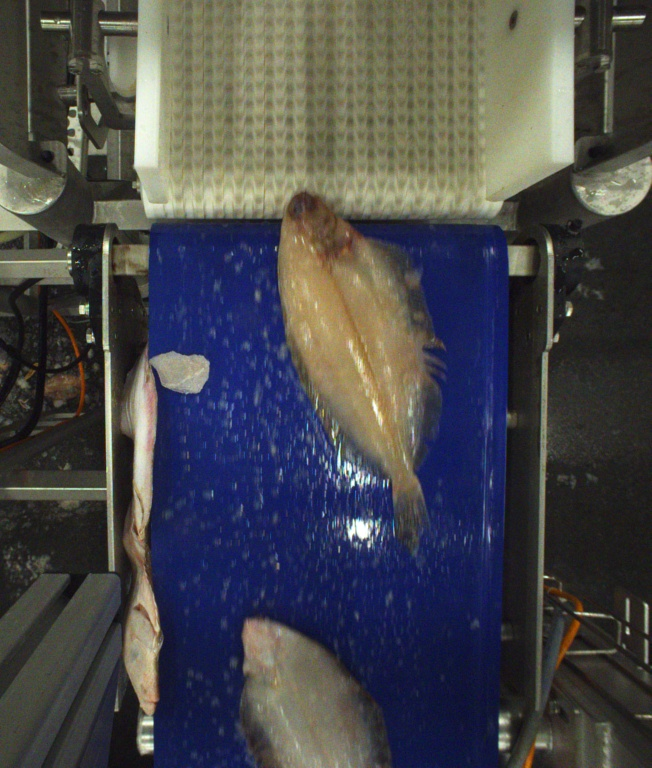WIT: (239, 617, 394, 768)
